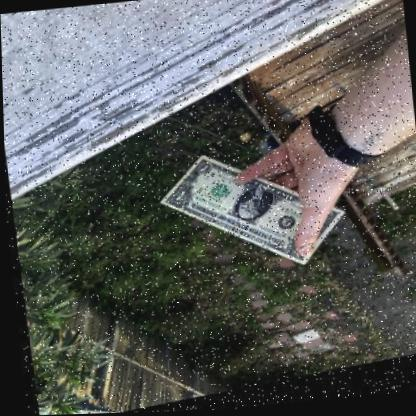dollar_front: (157, 159, 343, 272)
